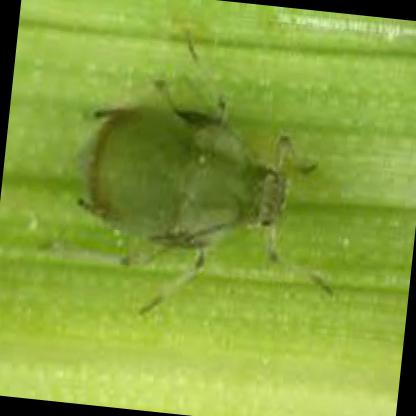schizaphis graminum: (78, 38, 327, 292)
